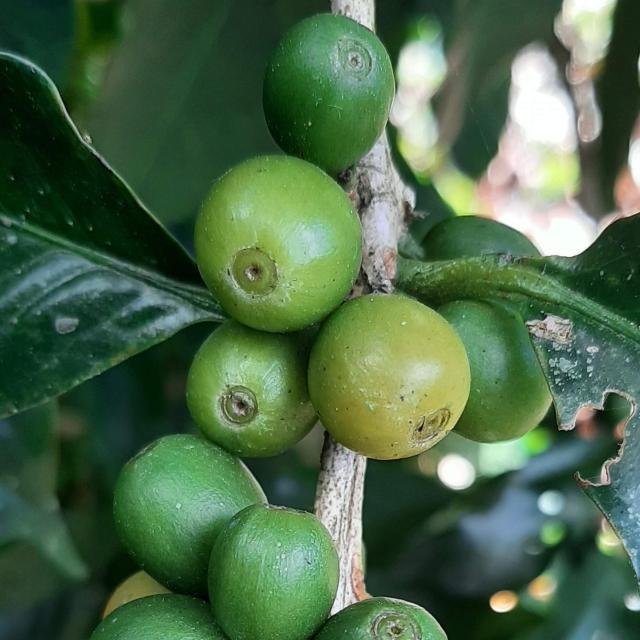green: (113, 435, 267, 596), (263, 13, 395, 176), (208, 504, 338, 640), (440, 300, 553, 443), (89, 595, 228, 640), (314, 598, 448, 640), (424, 215, 542, 261)
yellow: (194, 155, 362, 333), (308, 295, 471, 461), (186, 320, 318, 458), (102, 572, 171, 619)
